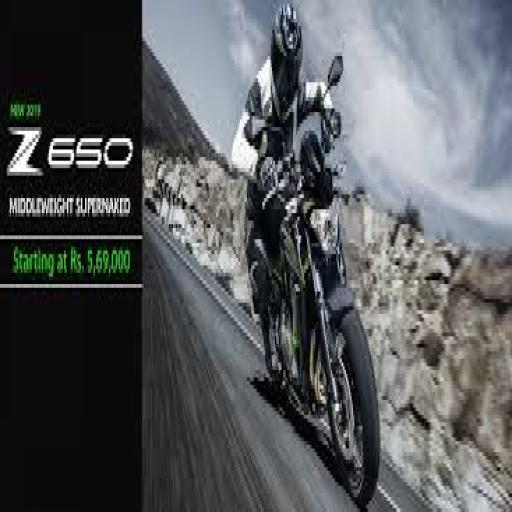helmet: (234, 48, 381, 504), (230, 0, 342, 385), (268, 0, 303, 120)
